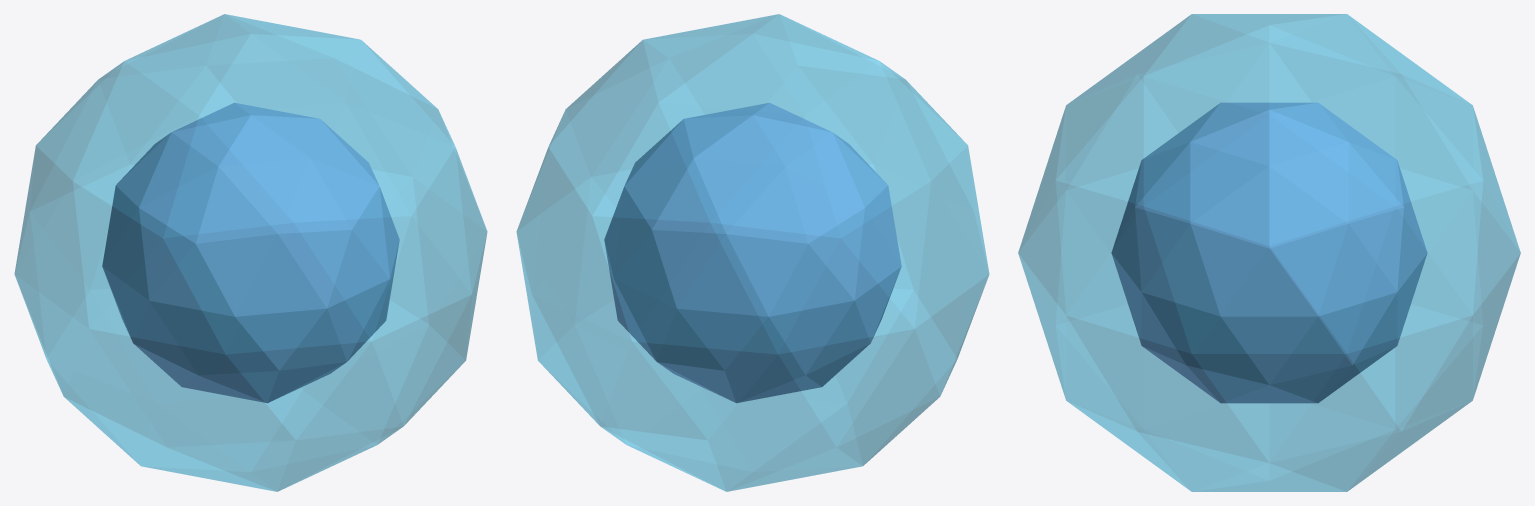
Rendered from Enemy_High_FrozenSlime.FBX.
The picture shows the model from 3 angles, left to right: view 1: azimuth 30°, elevation 25°; view 2: azimuth 150°, elevation 25°; view 3: azimuth 270°, elevation 25°; orthographic projection. The views are drawn at different scales.
Parts seen in each view (by area): view 1: GeoSphere001, GeoSphere002; view 2: GeoSphere001, GeoSphere002; view 3: GeoSphere001, GeoSphere002.
Boxes of the visible parts, x1,y1,x2,y2 form: GeoSphere001: (14, 14, 487, 491); GeoSphere002: (102, 102, 399, 403); GeoSphere001: (516, 14, 989, 491); GeoSphere002: (604, 102, 901, 403); GeoSphere001: (1018, 14, 1520, 491); GeoSphere002: (1111, 102, 1427, 403).
Size of the model in its own units: 88.97 by 93.55 by 93.55.
